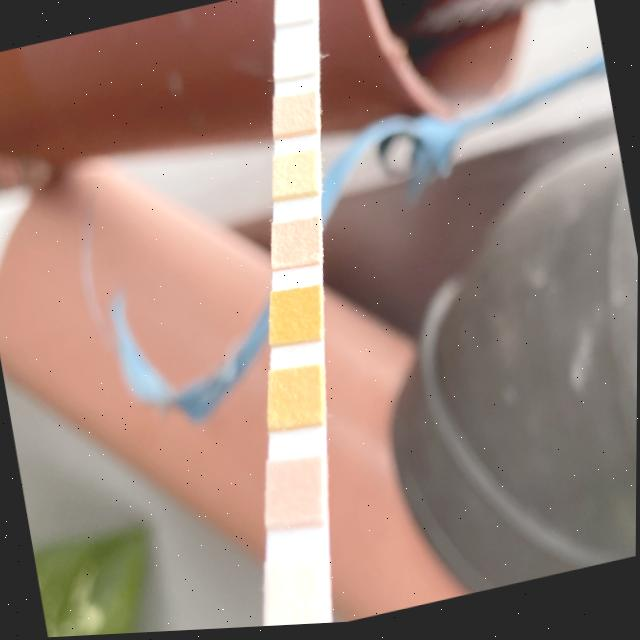Bilirubin: (266, 561, 325, 629)
Blood: (270, 288, 319, 343)
Ketone: (266, 459, 322, 522)
Leukocytes: (273, 0, 313, 25)
Nitrite: (271, 42, 315, 79)
Protein: (271, 153, 315, 199)
SpGravity: (268, 368, 318, 425)
Urobilinogen: (272, 94, 316, 135)
pH: (272, 221, 318, 269)
